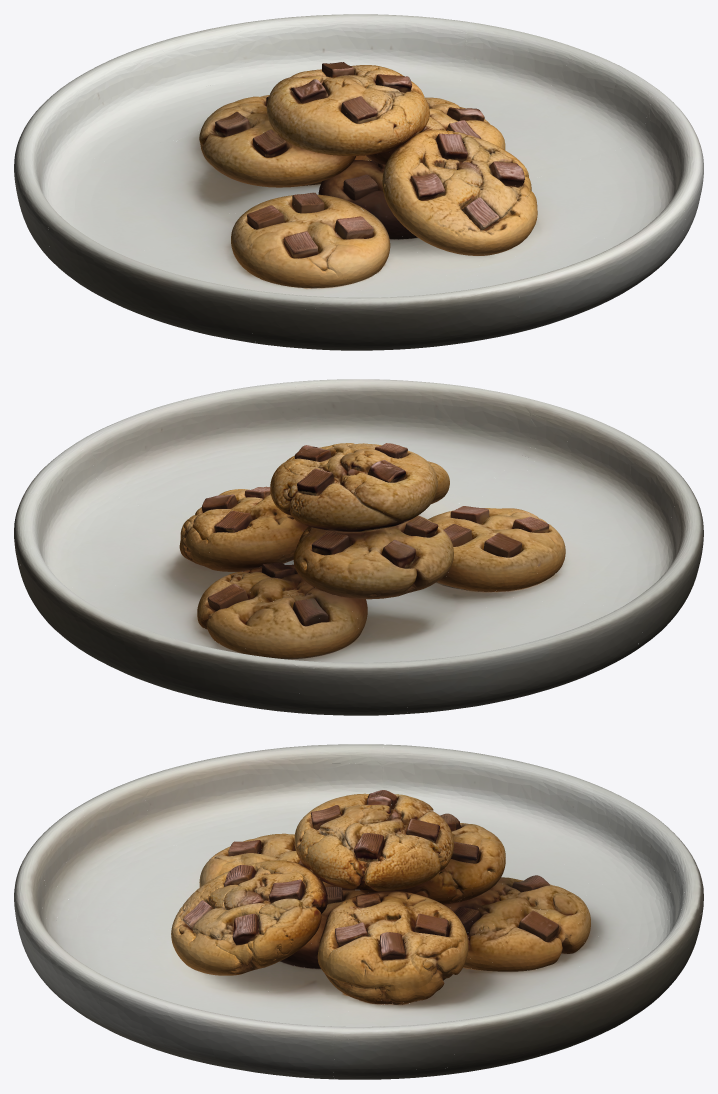
File: minicookies.glb
3 renders of one model, top to bottom at view 1: azimuth 30°, elevation 25°; view 2: azimuth 150°, elevation 25°; view 3: azimuth 270°, elevation 25°, orthographic.
Parts seen in each view (by area): view 1: tripo_node_b9b9188f-cab5-42f3-9e93-2ba94322f5f5; view 2: tripo_node_b9b9188f-cab5-42f3-9e93-2ba94322f5f5; view 3: tripo_node_b9b9188f-cab5-42f3-9e93-2ba94322f5f5.
Boxes of the visible parts, x1,y1,x2,y2 form: tripo_node_b9b9188f-cab5-42f3-9e93-2ba94322f5f5: [14, 14, 703, 350]; tripo_node_b9b9188f-cab5-42f3-9e93-2ba94322f5f5: [14, 379, 703, 715]; tripo_node_b9b9188f-cab5-42f3-9e93-2ba94322f5f5: [14, 744, 703, 1079].
Size of the model in its own units: 0.9798 by 0.2235 by 0.98.
1 material, 1 textured.
